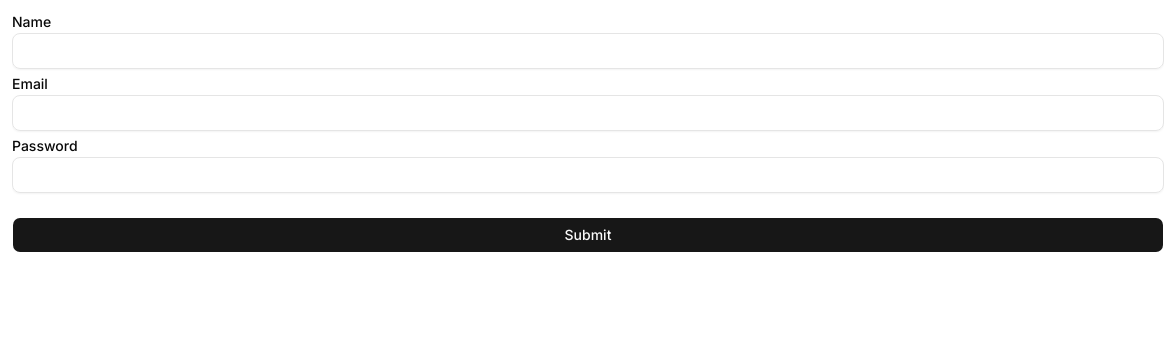
Test: <RegisterForm /> › shows validation errors for invalid credentials
The image size is (1176, 341).
In the field labelled "Email": (588, 113) [12,95,1164,131], type "not_an_email"
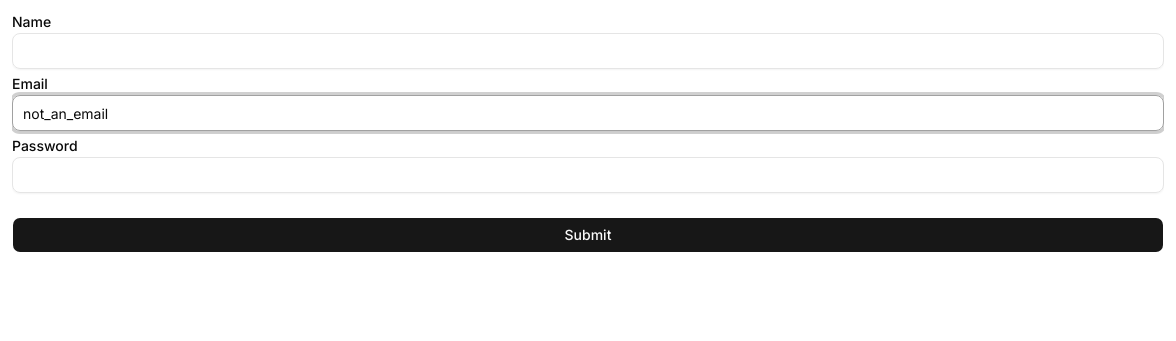
In the password field labelled "Password": (588, 175) [12,157,1164,193], type "1234"
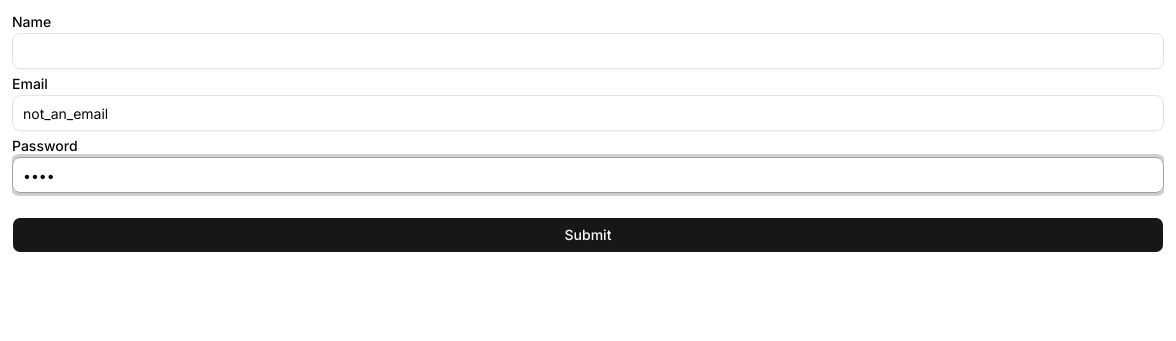
Click the button "Submit": (588, 235) [12,217,1164,253]
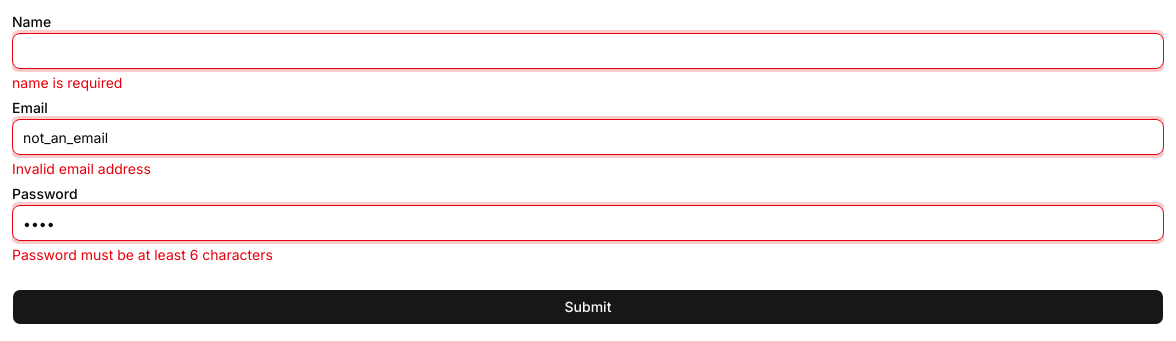
Expected: the text "name is required" is shown, [12,74,122,91]
Expected: the text "Invalid email address" is shown, [12,160,151,177]
Expected: the text "Password must be at least 6 characters" is shown, [12,246,273,263]
